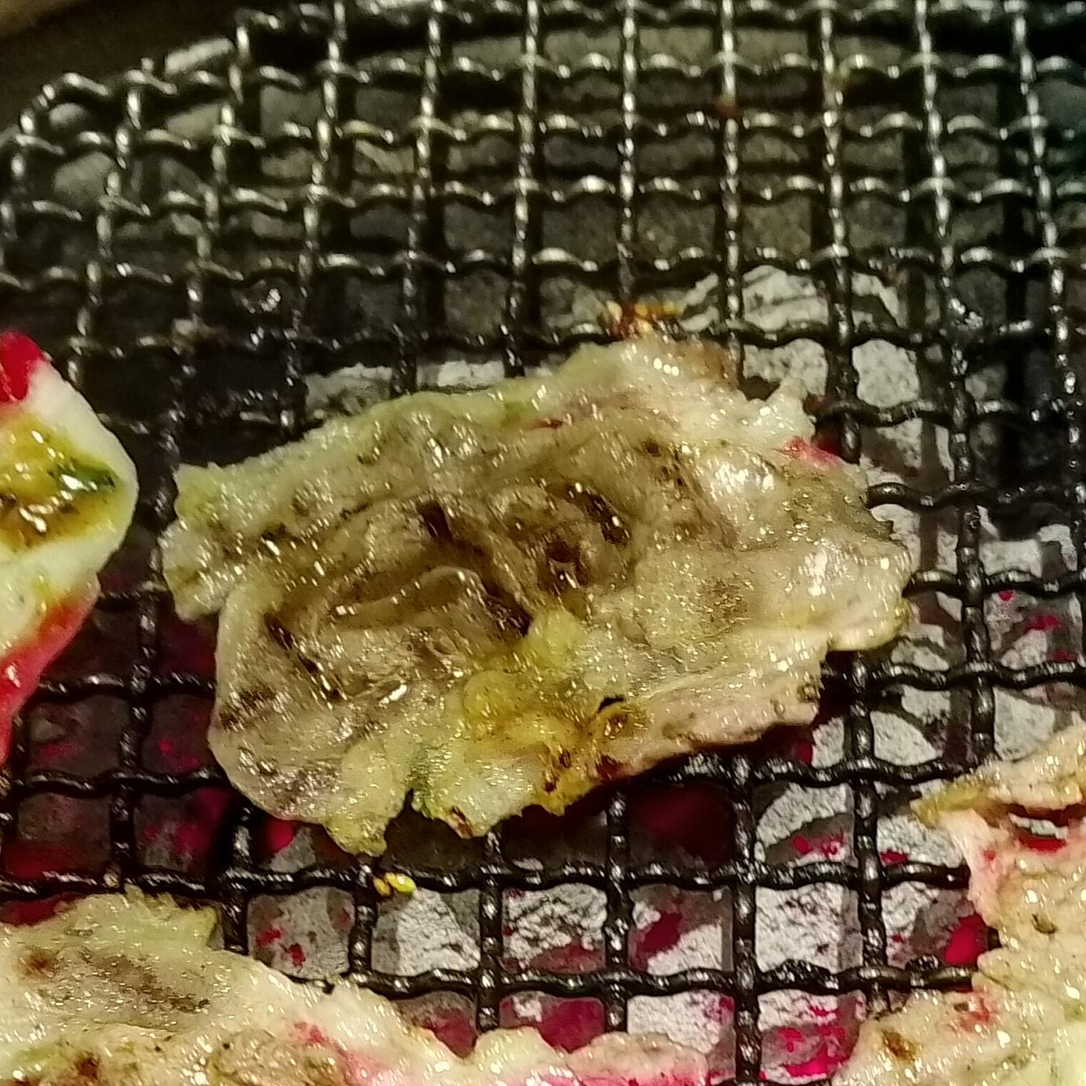Overcooked: (161, 335, 918, 859)
Undercooked: (0, 894, 689, 1085), (842, 730, 1085, 1085), (0, 331, 139, 785)
